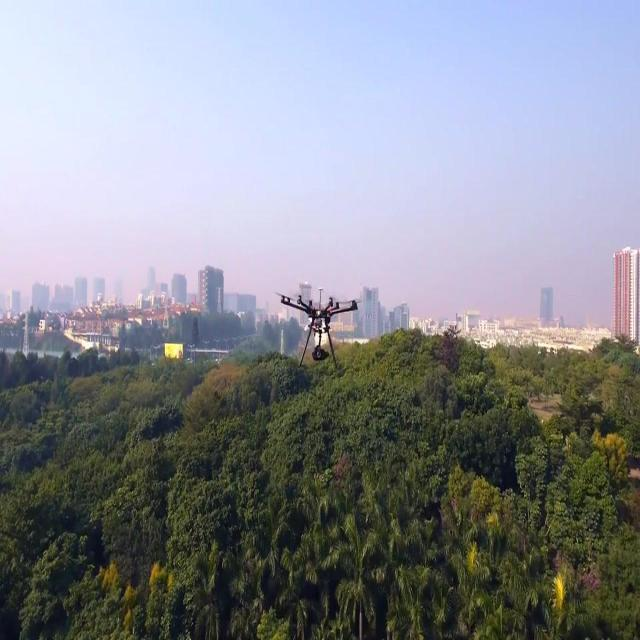drone: (273, 285, 365, 370)
